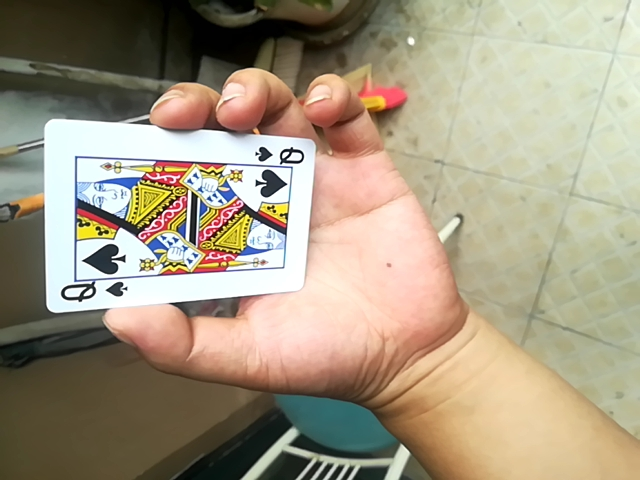ht q: (39, 119, 322, 315)
